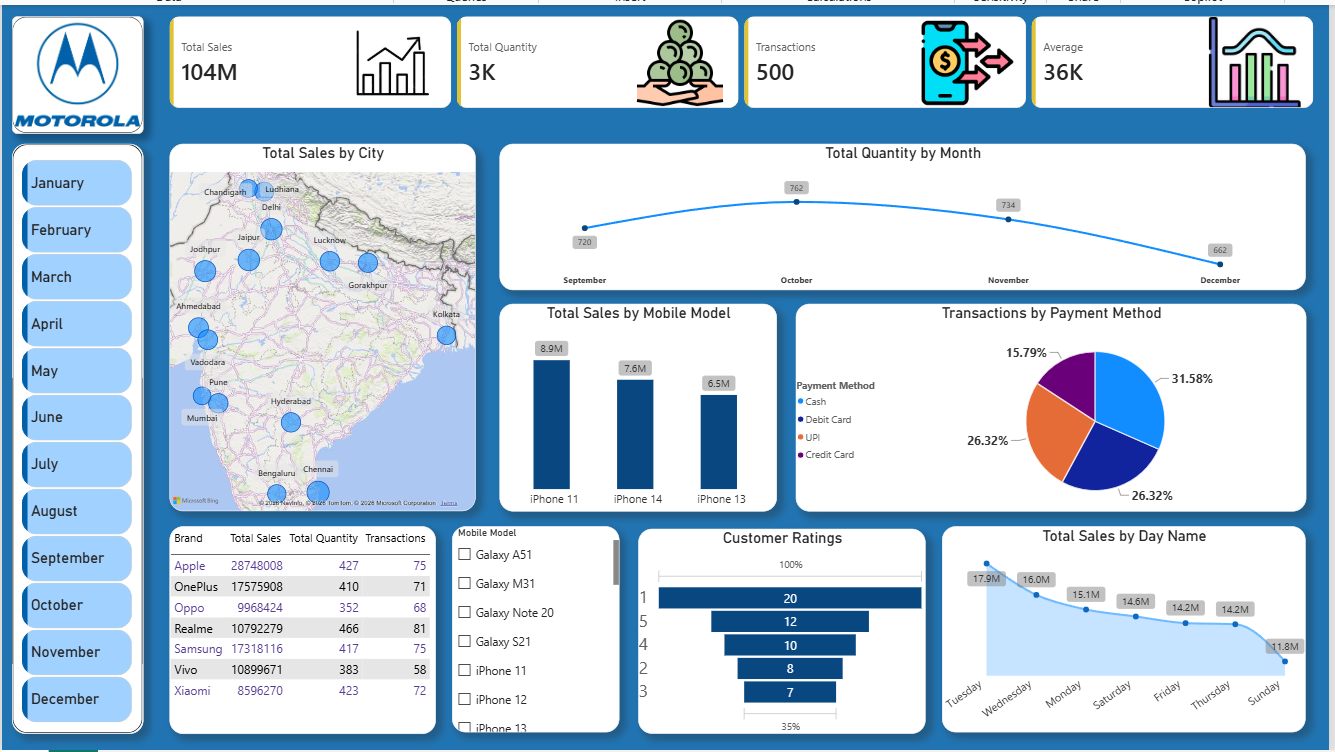

Layout of this report page (visuals, bound fields, positions):
{"tool":"powerbi","page":{"name":"Page 1","canvas":[1920,1080],"ordinal":0},"visuals":[{"type":"shape","box":[14.5,200.9,190,854.2],"z":0},{"type":"image","box":[14.5,16.3,190,170.1],"z":1000},{"type":"advancedSlicerVisual","fields":{"Values":["Mobile Sales_Data.Date .Variation.Date Hierarchy.Month"]},"box":[29,224.4,159.3,818],"z":2000},{"type":"cardVisual","fields":{"Data":["Mobile Sales_Data.Total Sales","Mobile Sales_Data.Total Quantity","Mobile Sales_Data.Transactions","Mobile Sales_Data.Average"]},"box":[242.5,16.3,1659.5,133.9],"z":3000},{"type":"map","fields":{"Category":["Mobile Sales_Data.City"],"Size":["Mobile Sales_Data.Total Sales"]},"box":[242.5,200.9,443.4,532],"z":4000},{"type":"lineChart","fields":{"Category":["Mobile Sales_Data.Date .Variation.Date Hierarchy.Month"],"Y":["Mobile Sales_Data.Total Quantity"]},"box":[720.2,200.9,1167.2,211.7],"z":5000},{"type":"clusteredColumnChart","fields":{"Category":["Mobile Sales_Data.Mobile Model"],"Y":["Mobile Sales_Data.Total Sales"]},"box":[720.4,432.2,401.4,300.5],"z":6000},{"type":"pieChart","fields":{"Category":["Mobile Sales_Data.Payment Method"],"Y":["Mobile Sales_Data.Transactions"]},"box":[1148.5,432.2,738.9,300.5],"z":7000},{"type":"funnel","title":"Customer Ratings","fields":{"Category":["Mobile Sales_Data.Customer Ratings"],"Y":["CountNonNull(Mobile Sales_Data.Customer Ratings)"]},"box":[921.1,758.2,416.2,296.8],"z":8000},{"type":"areaChart","fields":{"Category":["Mobile Sales_Data.Day Name"],"Y":["Mobile Sales_Data.Total Sales"]},"box":[1360.9,754.6,526.6,298.6],"z":9000},{"type":"tableEx","fields":{"Values":["Mobile Sales_Data.Brand","Mobile Sales_Data.Total Sales","Mobile Sales_Data.Total Quantity","Mobile Sales_Data.Transactions"]},"box":[242.5,754.6,385.5,300.4],"z":10000},{"type":"slicer","fields":{"Values":["Mobile Sales_Data.Mobile Model"]},"box":[651.5,754.6,242.5,298.6],"z":10001}]}

Visuals, with their boxes in screenshot pixels (x1, y1, x2, y2), scaled from the page's 1920x1080 canvas onto the 1335x752 screenshot:
shape: (10,140,142,735)
image: (10,11,142,130)
advancedSlicerVisual - Mobile Sales_Data.Date .Variation.Date Hierarchy.Month: (20,156,131,726)
cardVisual - Mobile Sales_Data.Total Sales x Mobile Sales_Data.Total Quantity: (169,11,1322,105)
map - Mobile Sales_Data.City x Mobile Sales_Data.Total Sales: (169,140,477,510)
lineChart - Mobile Sales_Data.Date .Variation.Date Hierarchy.Month x Mobile Sales_Data.Total Quantity: (501,140,1312,287)
clusteredColumnChart - Mobile Sales_Data.Mobile Model x Mobile Sales_Data.Total Sales: (501,301,780,510)
pieChart - Mobile Sales_Data.Payment Method x Mobile Sales_Data.Transactions: (799,301,1312,510)
"Customer Ratings" funnel: (640,528,930,735)
areaChart - Mobile Sales_Data.Day Name x Mobile Sales_Data.Total Sales: (946,525,1312,733)
tableEx - Mobile Sales_Data.Brand x Mobile Sales_Data.Total Sales: (169,525,437,735)
slicer - Mobile Sales_Data.Mobile Model: (453,525,622,733)
